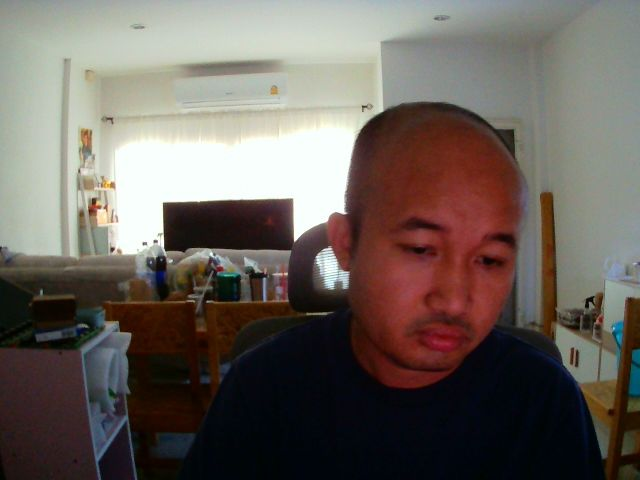face: (336, 99, 531, 374)
